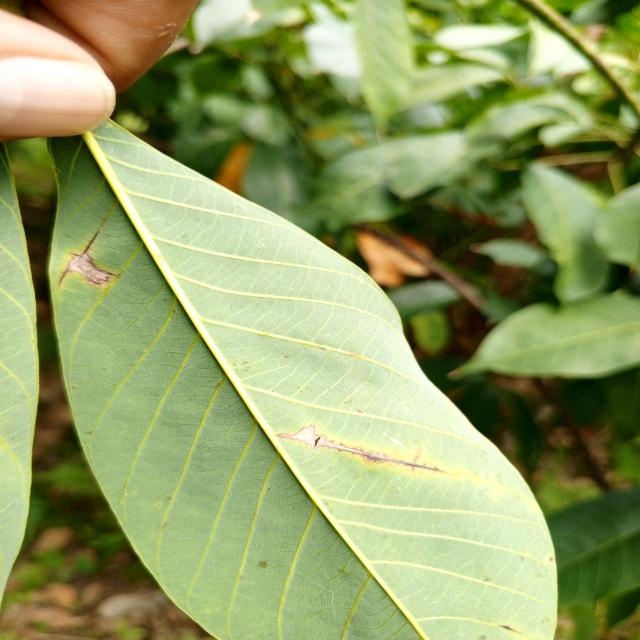Corynespora: (276, 425, 438, 472), (58, 230, 118, 286)
Leaf-Blight: (68, 255, 106, 282)
